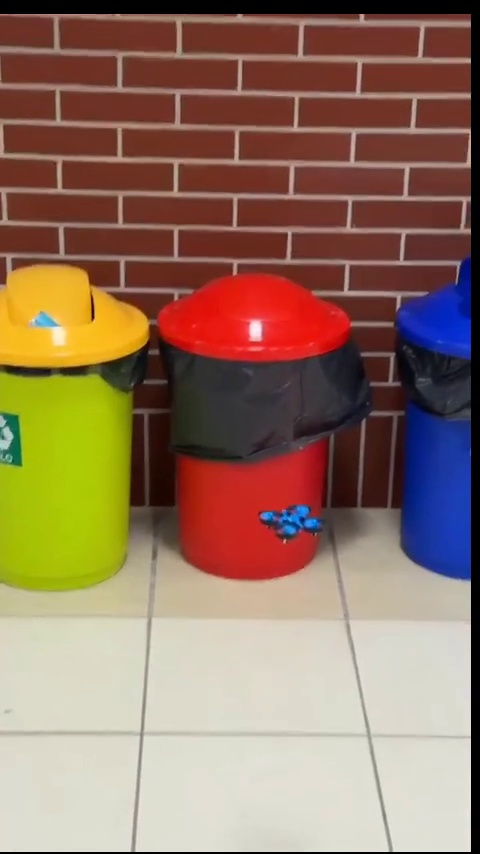drone: (257, 506, 326, 544)
